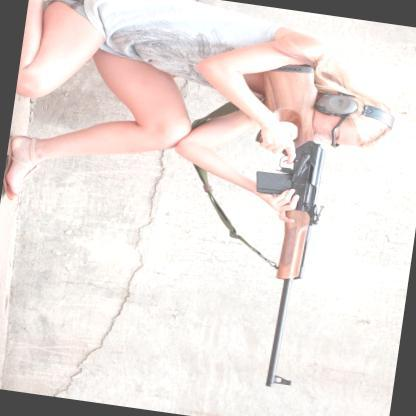rifle: (203, 53, 341, 391)
